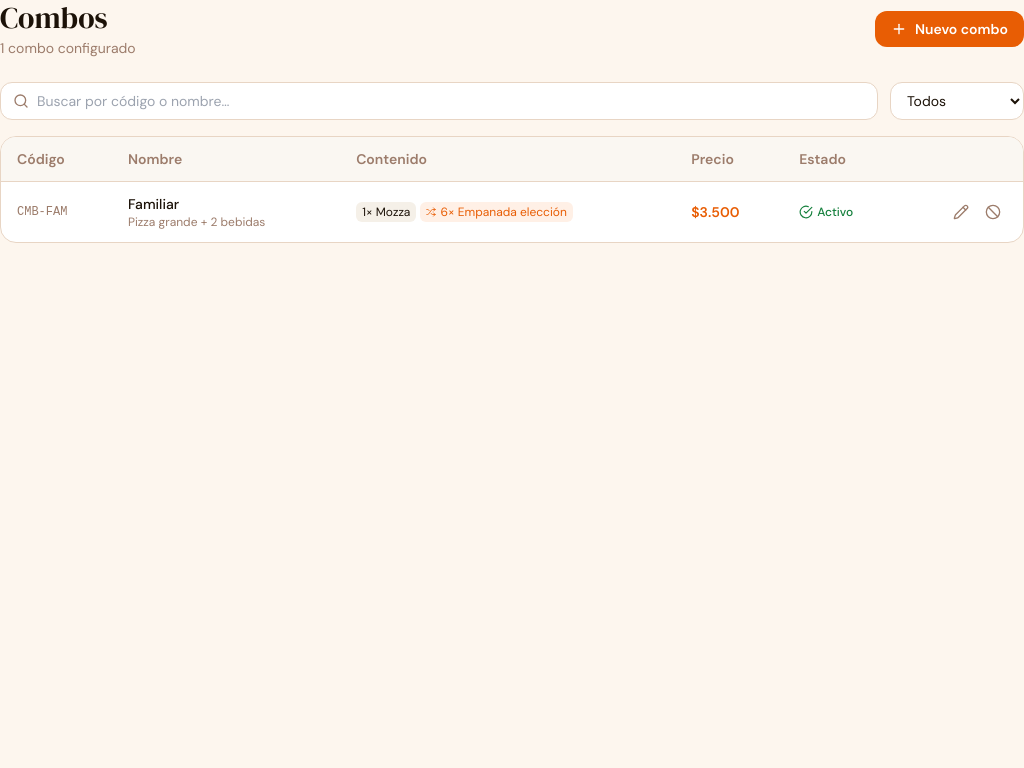
CombosPage › el código del combo está deshabilitado al editar
Expected: the table with test id "tabla-combos" is shown, [1,137,1023,242]
Click the button with test id "btn-editar-combo-0": (961, 212) [947,198,975,226]
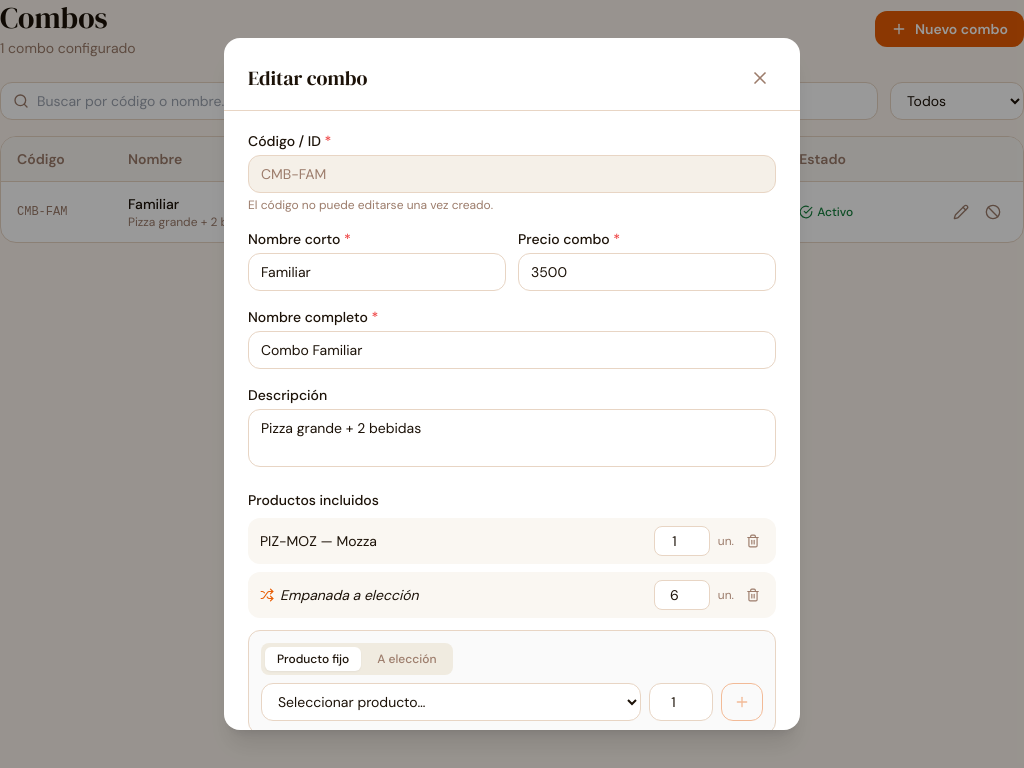
Result: the field with test id "input-codigo-combo" is disabled at [248,155,776,193]
